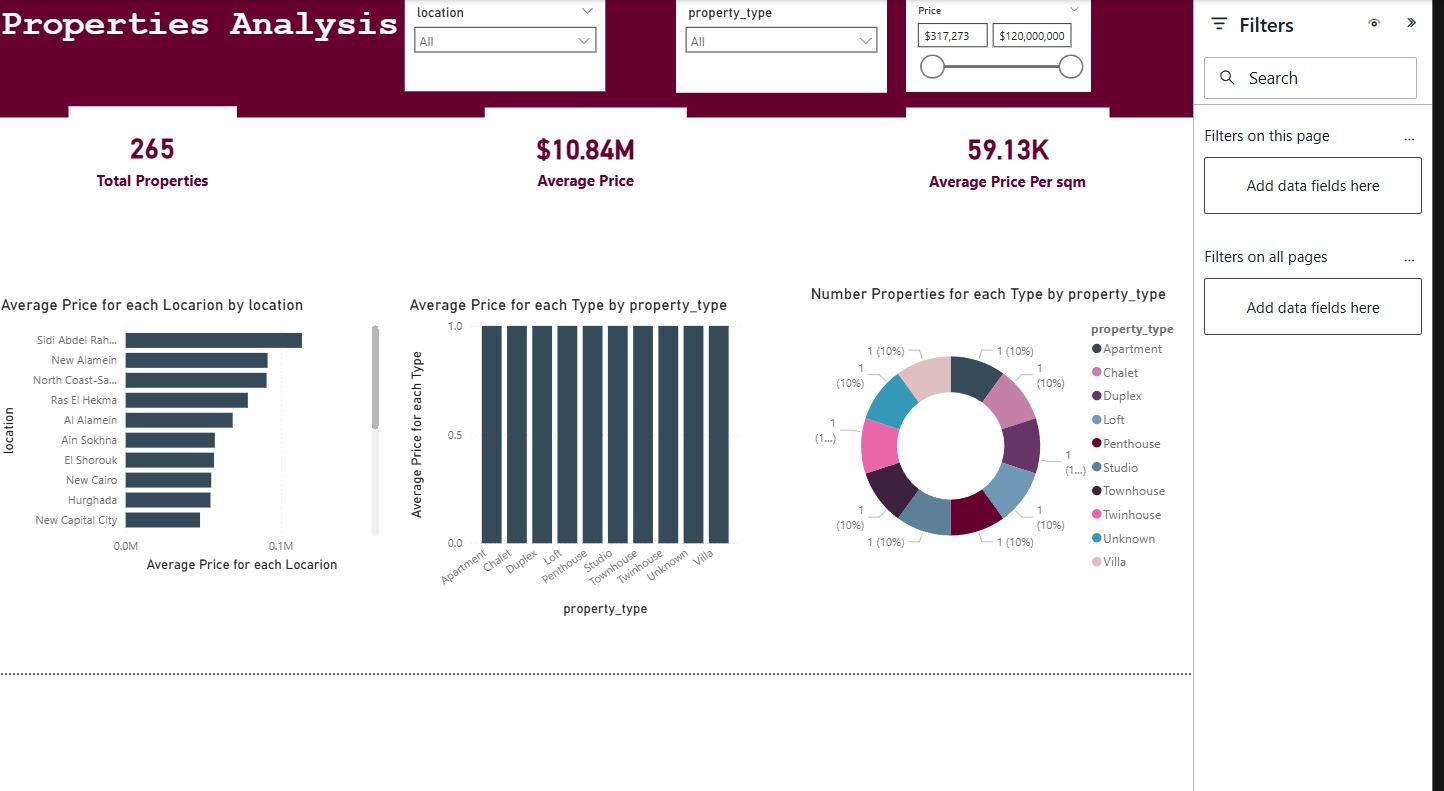

The dashboard page shown, as its layout file describes it:
{"tool":"powerbi","page":{"name":"Page 1","canvas":[1280,720],"ordinal":0},"visuals":[{"type":"textbox","box":[0,0,1280.3,125.7],"z":0},{"type":"card","fields":{"Values":["Avg(gold_df.price_per_sqm)"]},"box":[972.9,115.1,217.6,108.8],"z":1000},{"type":"card","fields":{"Values":["Count(gold_df.title)"]},"box":[77.3,113.5,179.7,108.8],"z":2000},{"type":"card","fields":{"Values":["Avg(gold_df.price)"]},"box":[521.9,115.1,216,107.2],"z":3000},{"type":"slicer","title":"In-Store Vs Takeaway","fields":{"Values":["gold_location_summary.location"]},"box":[436.8,0,214.4,97.8],"z":7000},{"type":"slicer","fields":{"Values":["gold_df.property_type"]},"box":[726.9,0,225.5,99.3],"z":7001},{"type":"slicer","fields":{"Values":["gold_df.price"]},"box":[973.4,0,197.5,97.6],"z":7002},{"type":"clusteredBarChart","fields":{"Category":["gold_df.location"],"Y":["Avg(gold_df.price_per_sqm)"]},"box":[0,315.3,414.7,301.2],"z":7003},{"type":"donutChart","fields":{"Category":["gold_type_summary.property_type"],"Y":["CountNonNull(gold_type_summary.total_properties)"]},"box":[865.6,302.7,414.7,328],"z":7005},{"type":"columnChart","fields":{"Category":["gold_type_summary.property_type"],"Y":["CountNonNull(gold_type_summary.avg_price_per_type)"]},"box":[436.8,315.3,362.7,348.5],"z":7006}]}

Visuals, with their boxes in screenshot pixels (x1, y1, x2, y2):
textbox: left=94, top=0, right=1430, bottom=112
card - Avg(gold_df.price_per_sqm): left=1109, top=101, right=1336, bottom=215
card - Count(gold_df.title): left=175, top=100, right=362, bottom=213
card - Avg(gold_df.price): left=638, top=101, right=864, bottom=213
"In-Store Vs Takeaway" slicer: left=550, top=0, right=773, bottom=83
slicer - gold_df.property_type: left=852, top=0, right=1088, bottom=85
slicer - gold_df.price: left=1110, top=0, right=1316, bottom=83
clusteredBarChart - gold_df.location x Avg(gold_df.price_per_sqm): left=94, top=310, right=527, bottom=624
donutChart - gold_type_summary.property_type x CountNonNull(gold_type_summary.total_properties): left=997, top=297, right=1430, bottom=639
columnChart - gold_type_summary.property_type x CountNonNull(gold_type_summary.avg_price_per_type): left=550, top=310, right=928, bottom=674
